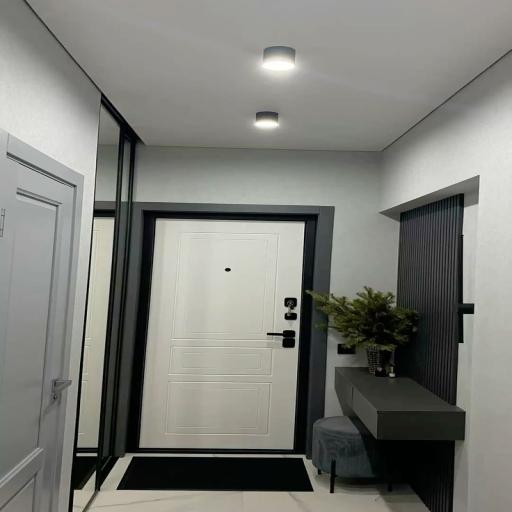child: (139, 218, 305, 450)
